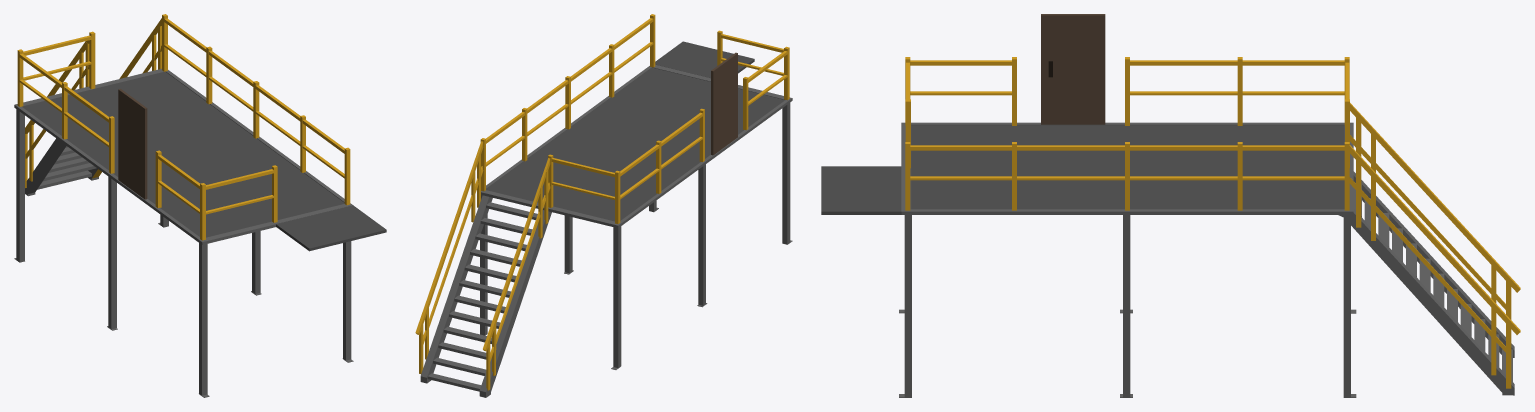
File: catwalkStaircase.fbx
3 renders of one model, left to right at view 1: azimuth 30°, elevation 25°; view 2: azimuth 150°, elevation 25°; view 3: azimuth 270°, elevation 25°, orthographic. The views are drawn at different scales.
Parts seen in each view (by area): view 1: Platform, Stairs, JumpPlatform, Door, Railing, Post; view 2: Platform, Stairs, Door, JumpPlatform, Railing; view 3: Platform, Stairs, Door, JumpPlatform.
Boxes of the visible parts, box(x1,y1,x2,y2) form: Platform: box(14, 14, 353, 397); Stairs: box(25, 18, 161, 196); JumpPlatform: box(276, 205, 386, 251); Door: box(118, 89, 147, 199); Railing: box(23, 35, 91, 80); Post: box(89, 31, 95, 89); Platform: box(480, 14, 792, 369); Stairs: box(415, 141, 551, 397); Door: box(711, 52, 737, 155); JumpPlatform: box(655, 41, 754, 78); Railing: box(551, 158, 614, 199); Platform: box(899, 57, 1356, 397); Stairs: box(1338, 103, 1520, 395); Door: box(1041, 14, 1105, 124); JumpPlatform: box(821, 166, 901, 214).
Bounding box in the file's own units: 650 × 1010 × 2162.
